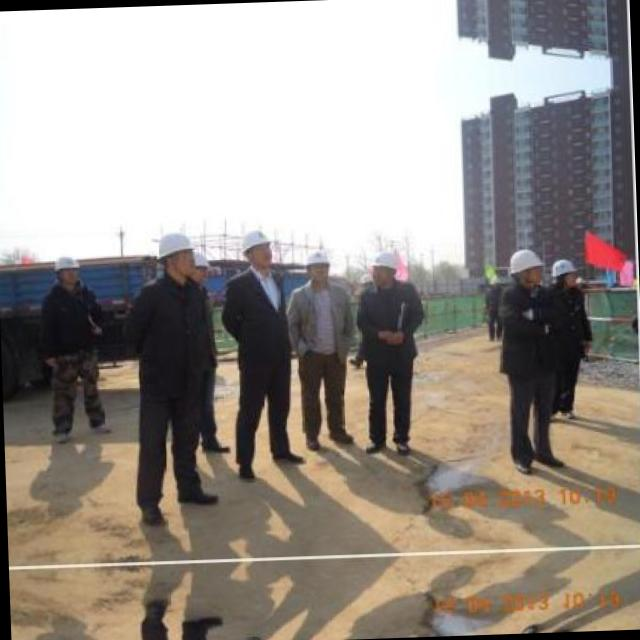helmet: (152, 225, 197, 280), (238, 223, 274, 270), (504, 248, 542, 292), (298, 244, 332, 285), (368, 246, 398, 288), (548, 250, 578, 292), (50, 250, 80, 286), (186, 248, 213, 286)
